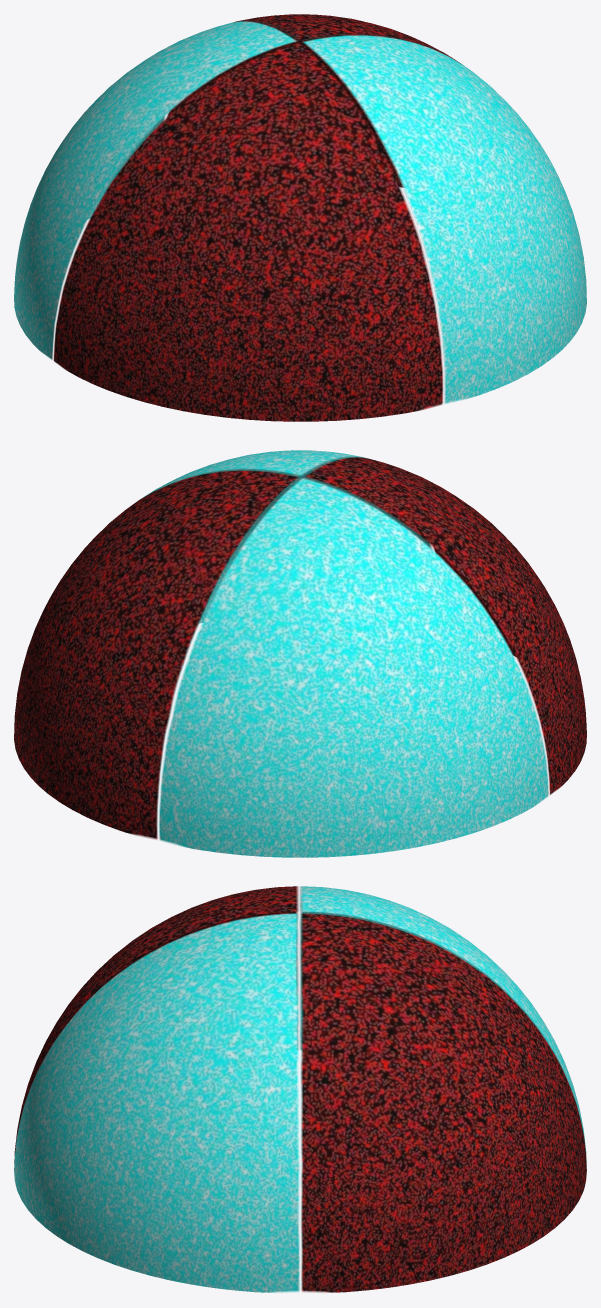
The picture shows the model from 3 angles, top to bottom: view 1: azimuth 30°, elevation 25°; view 2: azimuth 150°, elevation 25°; view 3: azimuth 270°, elevation 25°; orthographic projection.
Parts seen in each view (by area): view 1: SM_VFX_Icosphere_Half_1m_2560_LOD0; view 2: SM_VFX_Icosphere_Half_1m_2560_LOD0; view 3: SM_VFX_Icosphere_Half_1m_2560_LOD0.
Boxes of the visible parts, bbox=[...] form: SM_VFX_Icosphere_Half_1m_2560_LOD0: bbox=[14, 14, 586, 421]; SM_VFX_Icosphere_Half_1m_2560_LOD0: bbox=[14, 450, 586, 857]; SM_VFX_Icosphere_Half_1m_2560_LOD0: bbox=[14, 886, 586, 1292].
Bounding box in the file's own units: 2 × 1 × 2.
1 material, 1 textured.
